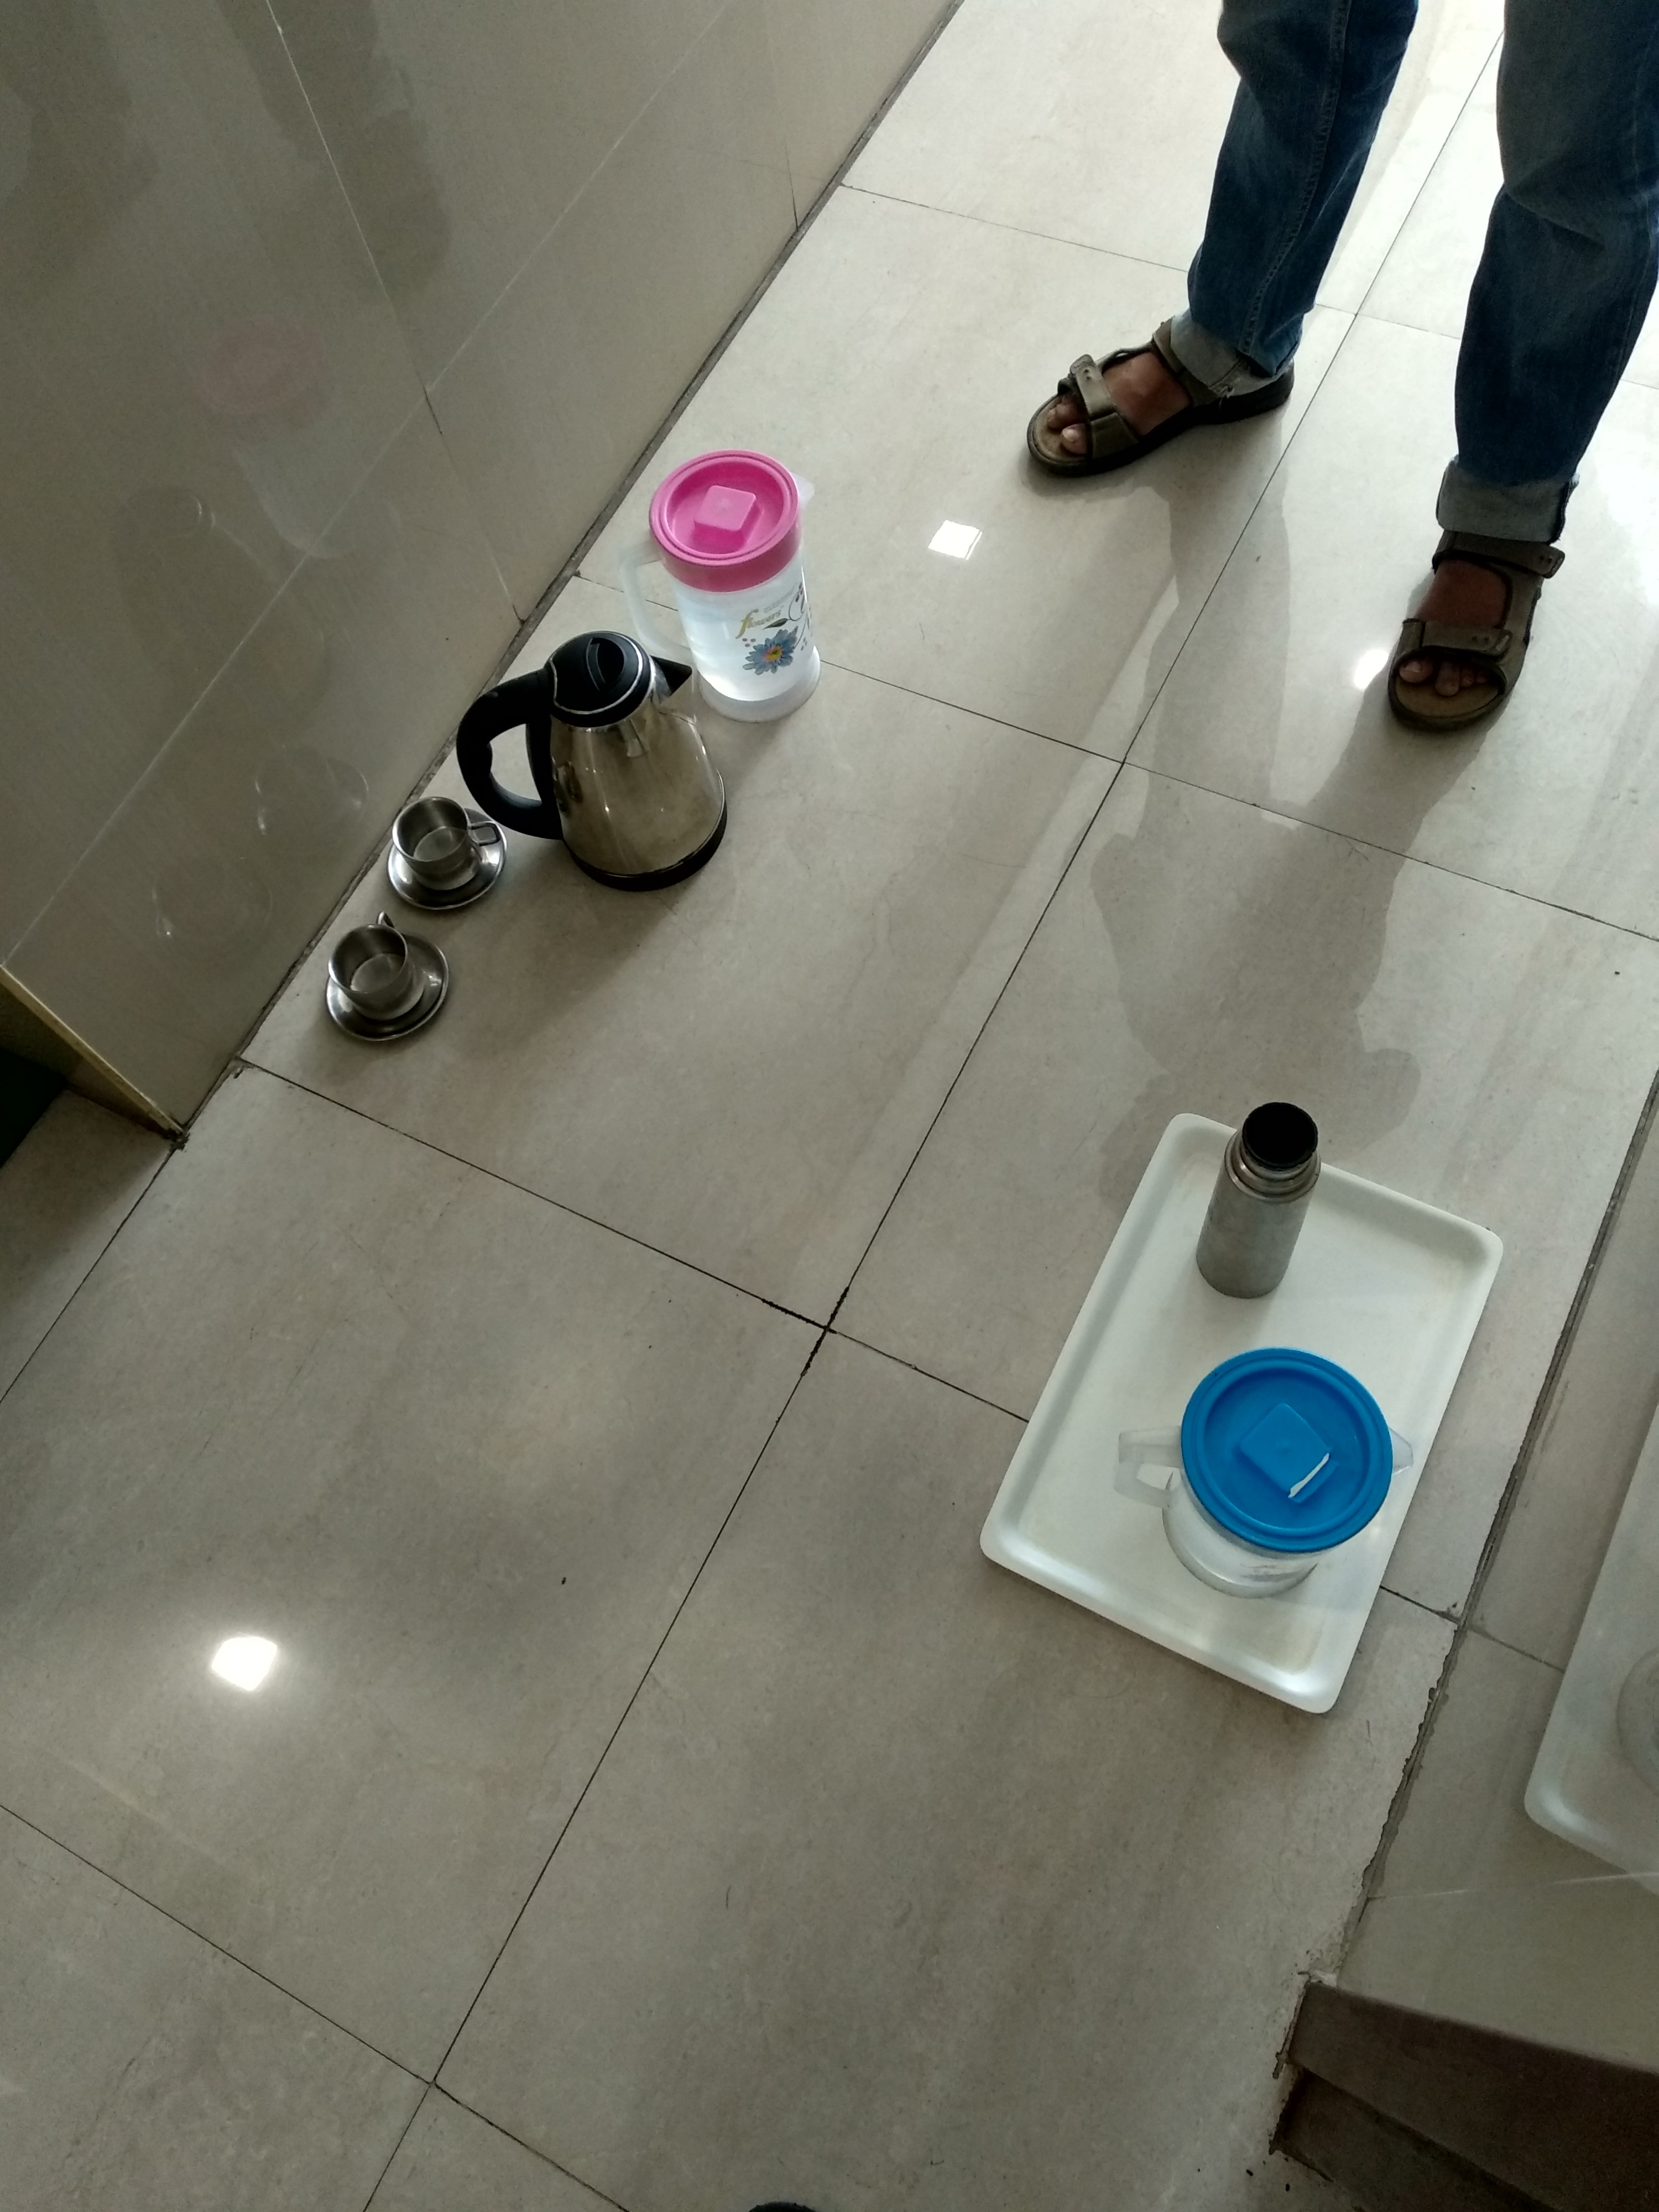CUP: (305, 923, 457, 1047), (378, 786, 511, 907)
FLASK: (1190, 1075, 1335, 1315)
JUG: (1114, 1329, 1436, 1615), (613, 408, 859, 718), (495, 601, 769, 878)
